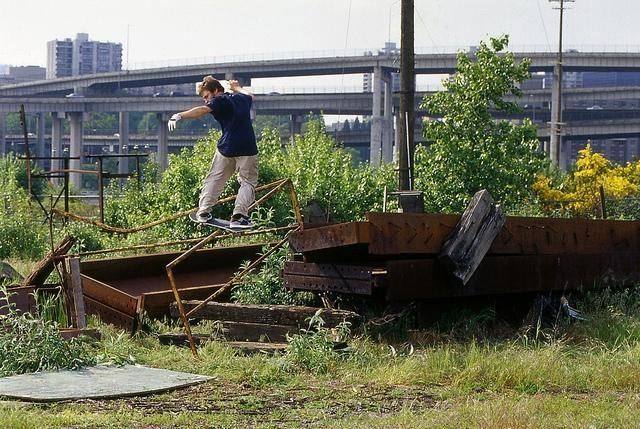car: (66, 93, 86, 98), (152, 92, 170, 97), (587, 105, 603, 110)
